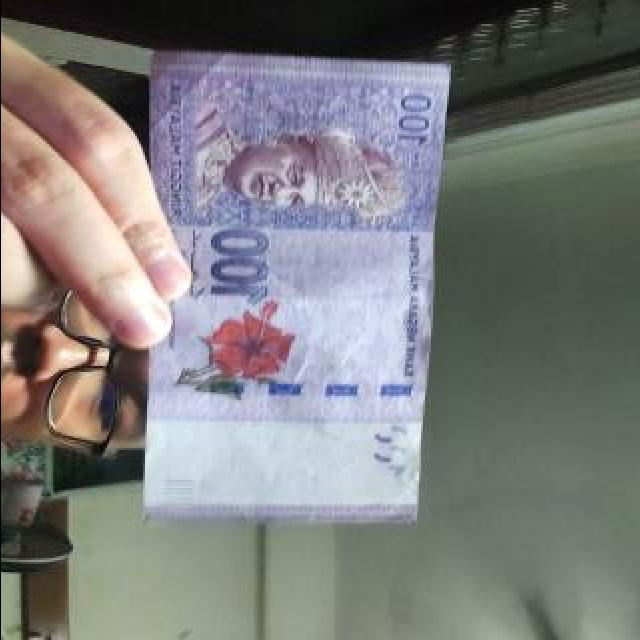100 Ringgit: (149, 56, 454, 529)
